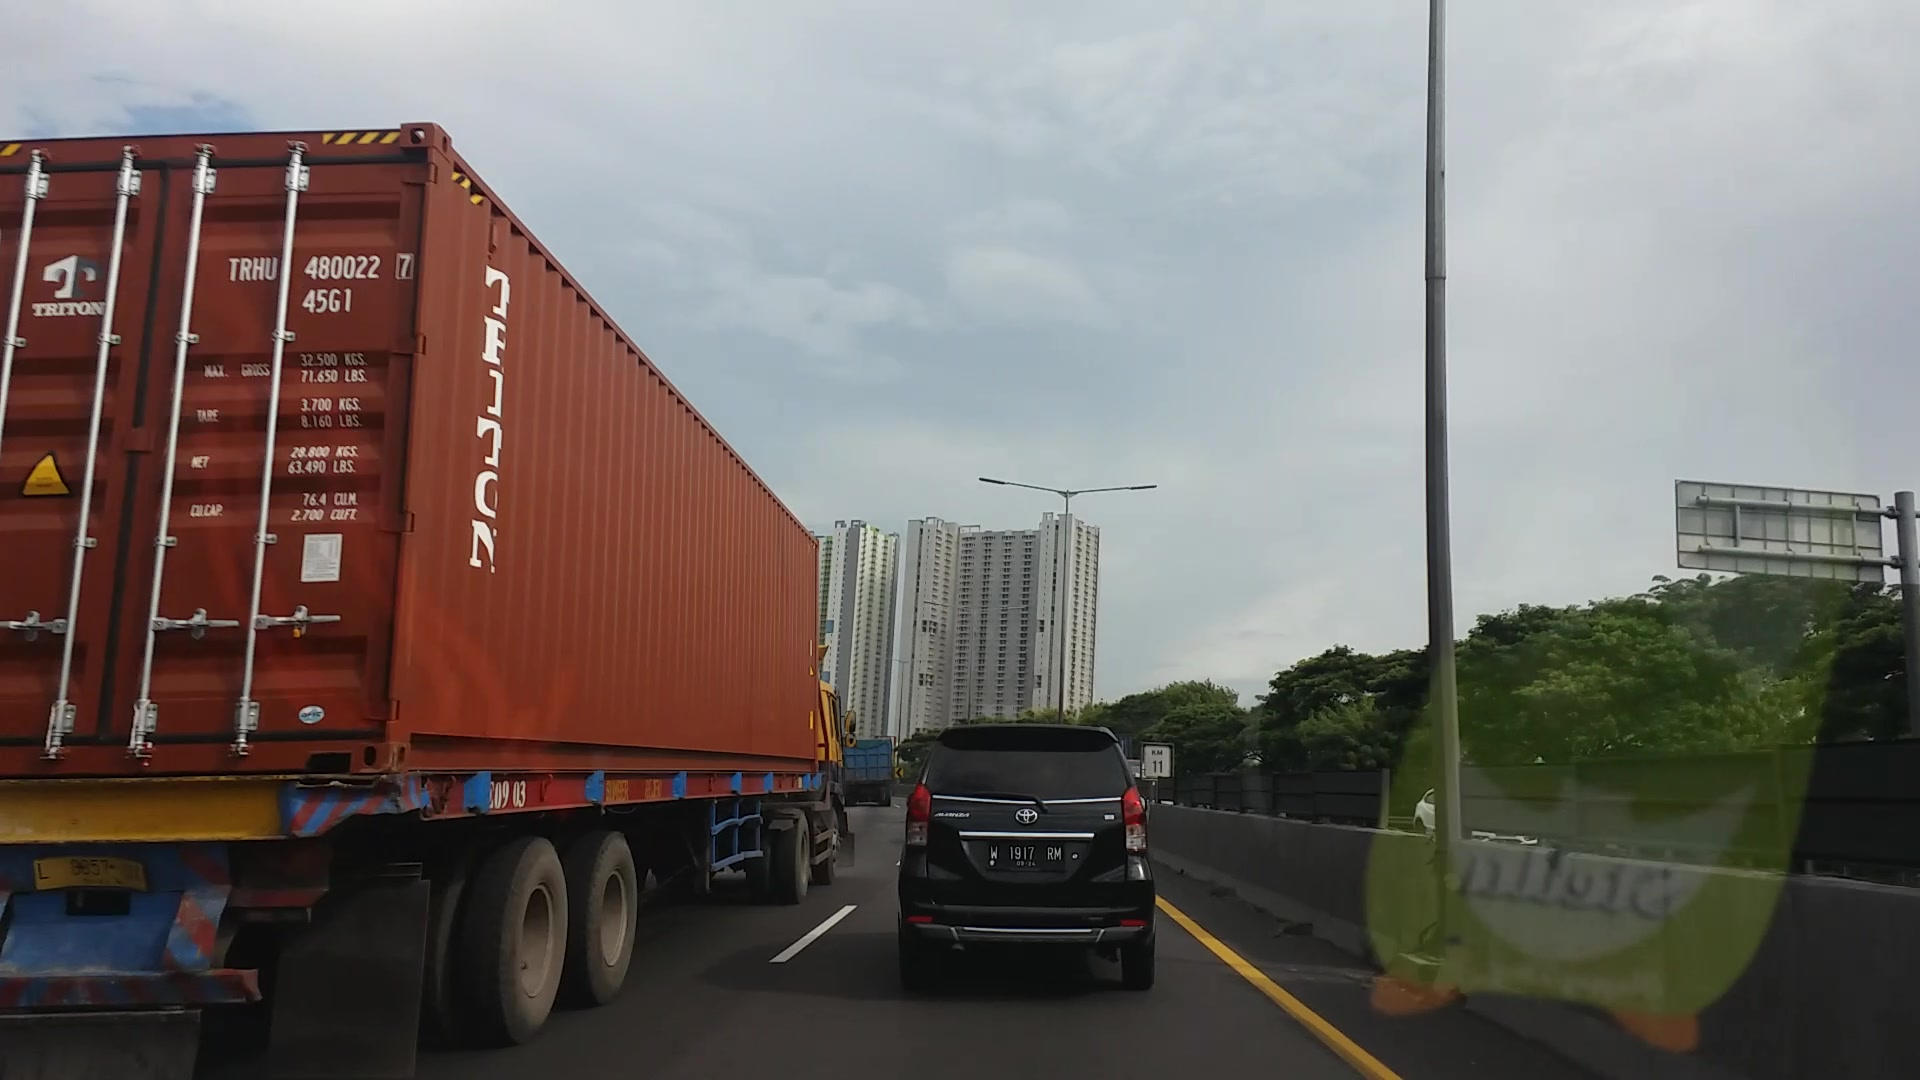plate_positive: (986, 840, 1064, 872)
